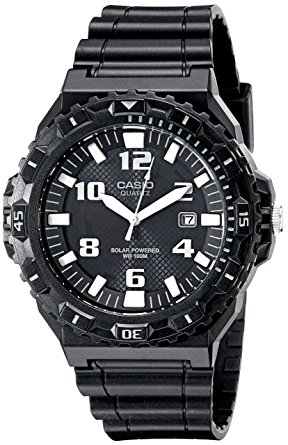clock: (2, 89, 266, 349)
